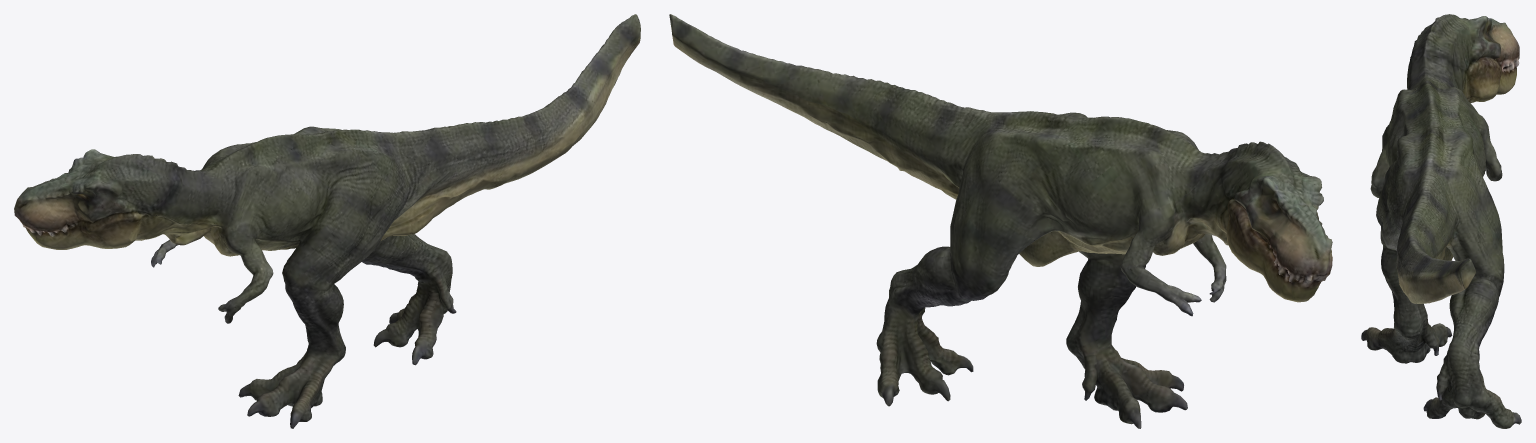
Rendered from google-tyrannosaurus.glb.
3 renders of one model, left to right at view 1: azimuth 30°, elevation 25°; view 2: azimuth 150°, elevation 25°; view 3: azimuth 270°, elevation 25°, orthographic. The views are drawn at different scales.
Visible parts, largest first — view 1: Node; view 2: Node; view 3: Node.
Boxes of the visible parts, box(x1,y1,x2,y2) form: Node: box(14, 14, 640, 428); Node: box(669, 14, 1332, 428); Node: box(1361, 14, 1521, 428).
Bounding box in the file's own units: 0.2887 × 0.1272 × 0.0685.
1 material, 1 textured.
